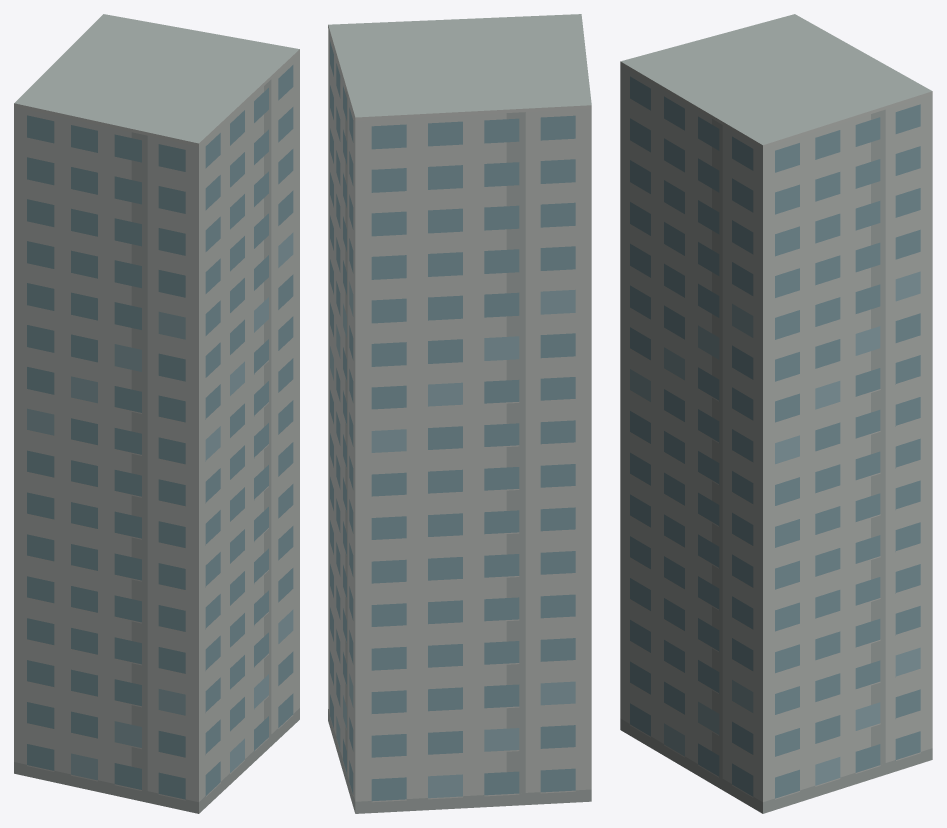
Rendered from residential-e54eb5d5-6b79-4683-a05c-5025c8a825bc.glb.
3 views of the same model, side by side, from view 1: azimuth 30°, elevation 25°; view 2: azimuth 150°, elevation 25°; view 3: azimuth 270°, elevation 25° (orthographic). The views are drawn at different scales.
Parts seen in each view (by area): view 1: residential-e54eb5d5-6b79-4683-a05c-5025c8a825bc.tmp; view 2: residential-e54eb5d5-6b79-4683-a05c-5025c8a825bc.tmp; view 3: residential-e54eb5d5-6b79-4683-a05c-5025c8a825bc.tmp.
Boxes of the visible parts, x1,y1,x2,y2 form: residential-e54eb5d5-6b79-4683-a05c-5025c8a825bc.tmp: (14, 14, 299, 813); residential-e54eb5d5-6b79-4683-a05c-5025c8a825bc.tmp: (328, 14, 591, 813); residential-e54eb5d5-6b79-4683-a05c-5025c8a825bc.tmp: (620, 14, 932, 813).
Size of the model in its own units: 20.56 by 48.8 by 20.66.
